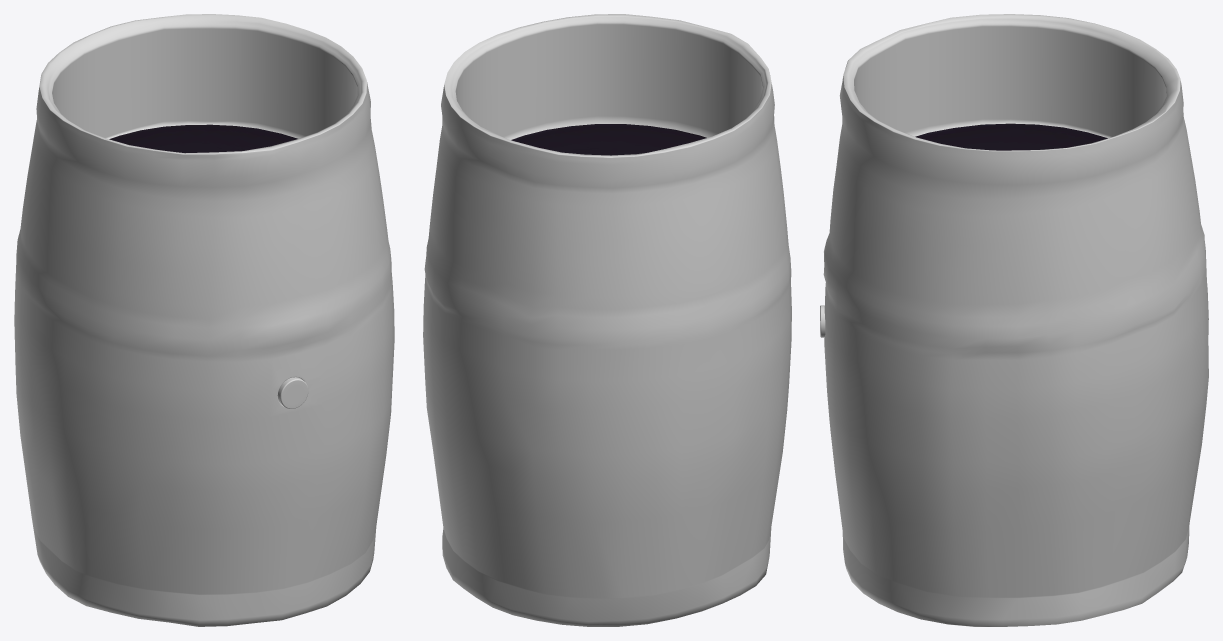
File: OldWoodenBarrel1.fbx
3 renders of one model, left to right at view 1: azimuth 30°, elevation 25°; view 2: azimuth 150°, elevation 25°; view 3: azimuth 270°, elevation 25°, orthographic.
Visible parts, largest first — view 1: Open Full Wooden Wine Barrel Cask; view 2: Open Full Wooden Wine Barrel Cask; view 3: Open Full Wooden Wine Barrel Cask.
Part boxes in pixels (x1,y1,x2,y2): Open Full Wooden Wine Barrel Cask: [14, 14, 394, 626]; Open Full Wooden Wine Barrel Cask: [423, 14, 791, 626]; Open Full Wooden Wine Barrel Cask: [820, 14, 1208, 626].
Size of the model in its own units: 67.9 by 96.41 by 70.81.
2 materials, 1 textured.
